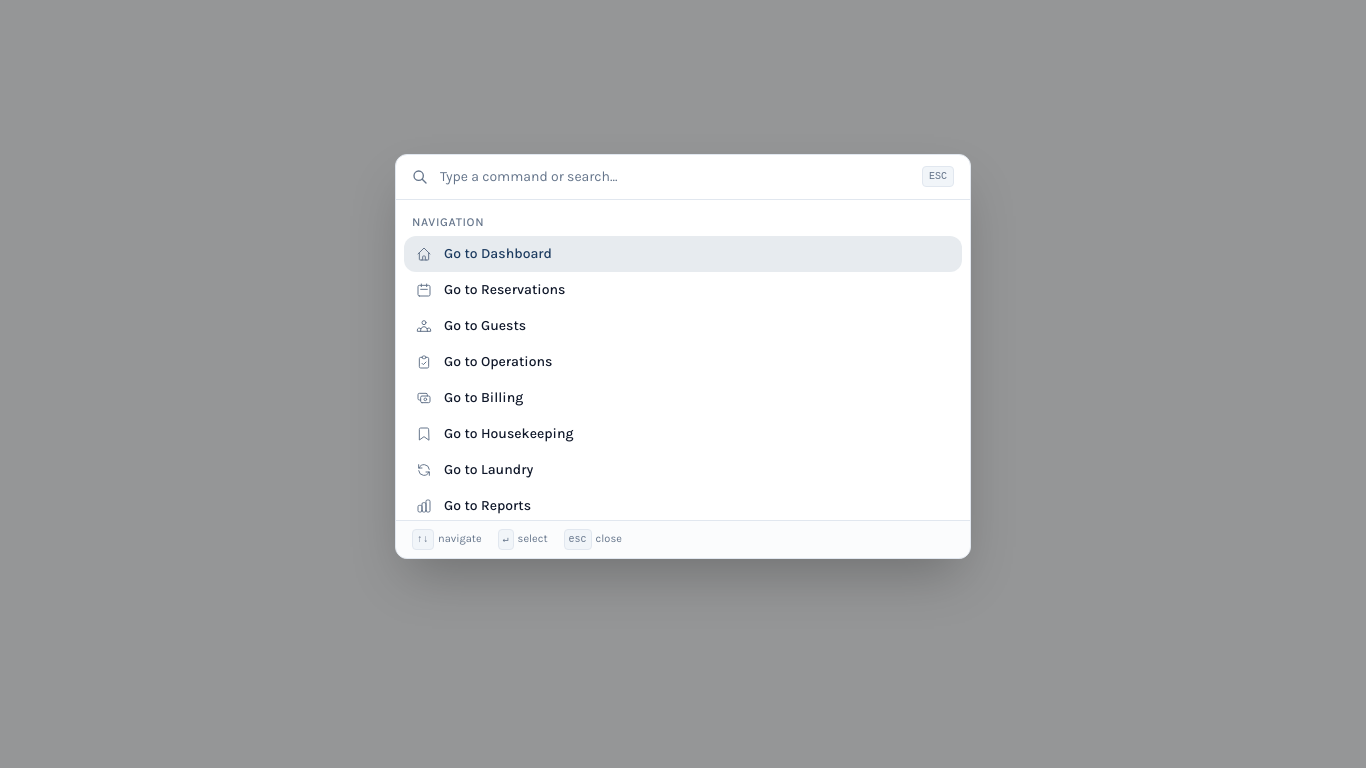
Test: CommandPalette › filters commands based on search query
The image size is (1366, 768).
Type "billing" into the field named "Search commands" at (675, 177), box [440,155,910,199]
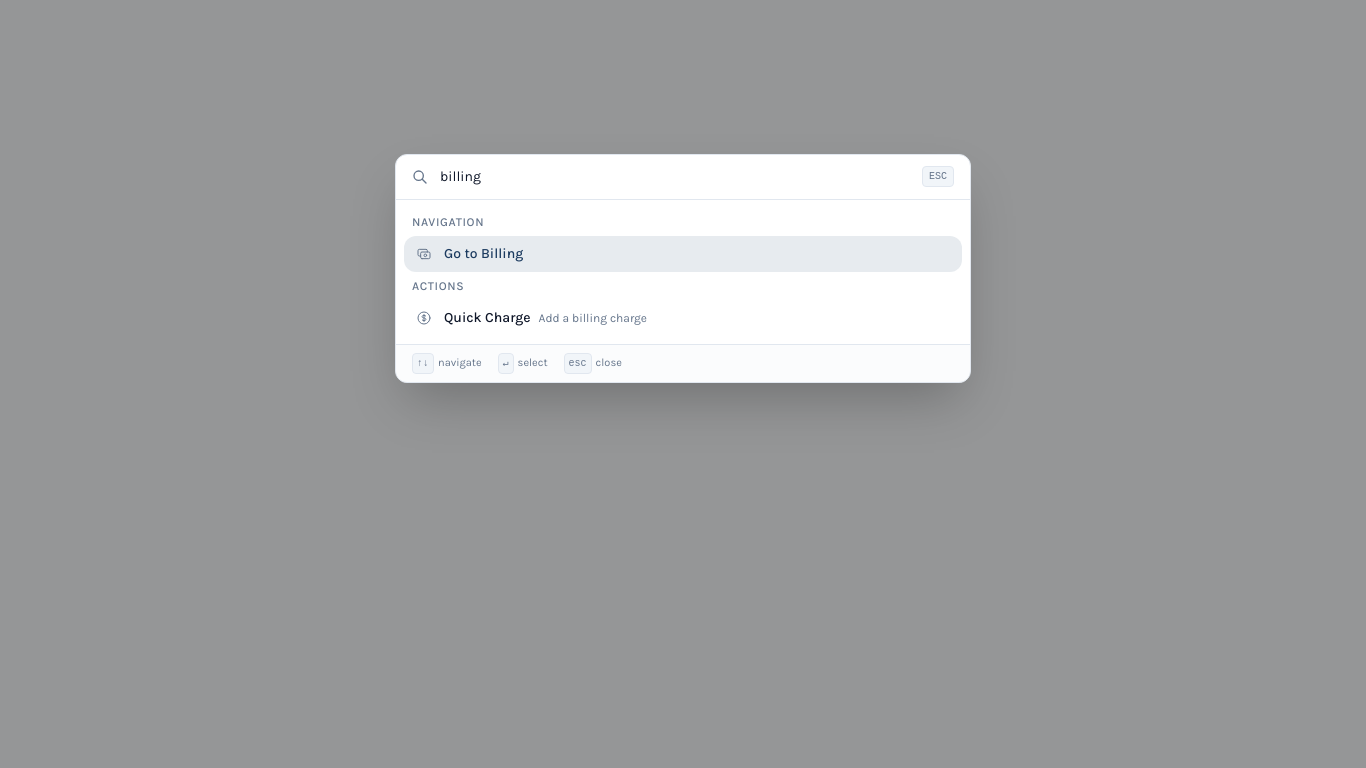
Check: the text "Go to Billing" is shown, box [444,245,523,262]
Check: the option "Go to Dashboard" is gone
